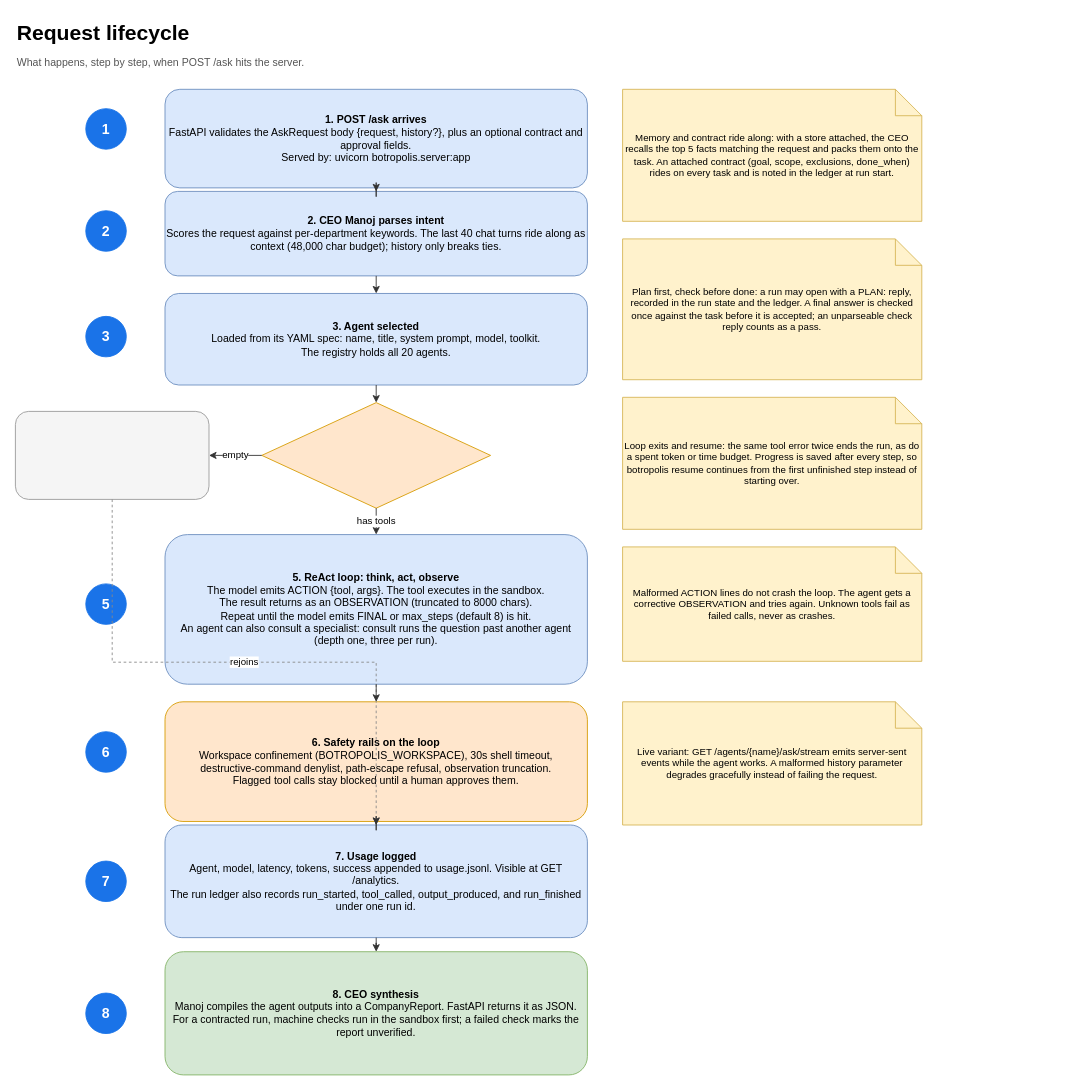
Some shapes in this 1087 by 1090 pixel diagram are drawn without their labels. The shapes that lost their labels are listed below. From the top down, each one's centre as x and y in pixels, then its label:
At point 112,455: "Single-shot path One model call, answer returned.".
At point 376,455: "4. Toolkit check toolkit empty?".
